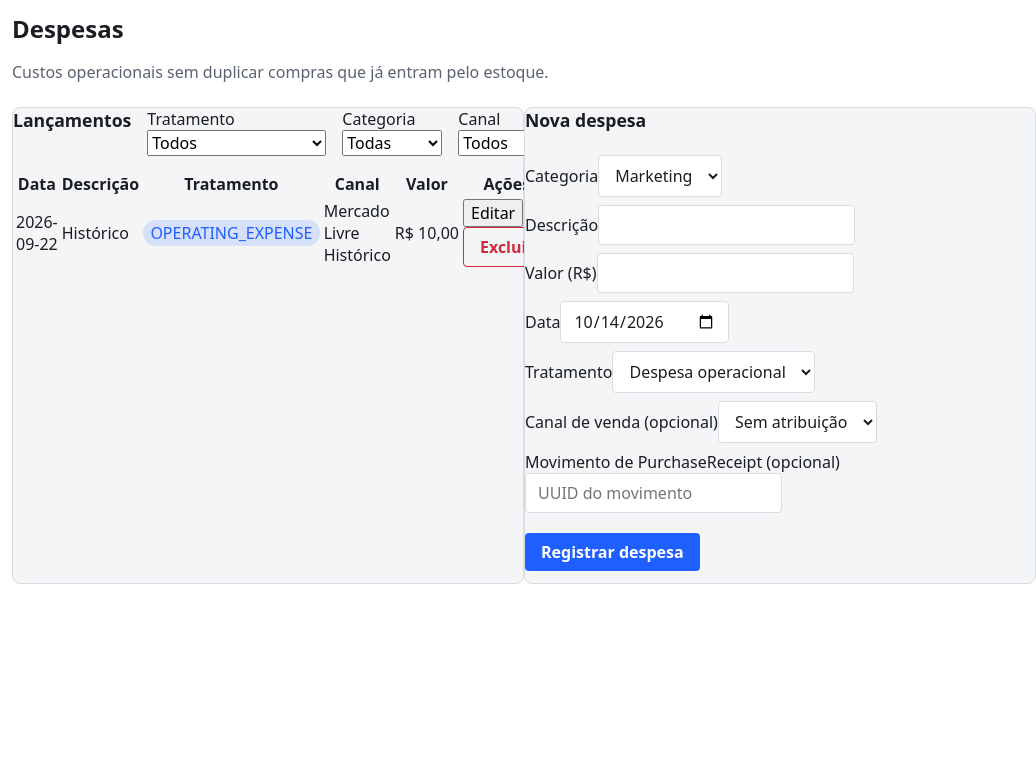
Test case: deletes an expense through the confirmation flow and refreshes the list
The width and height of the screenshot is (1036, 780).
Expected: the text "Histórico" is shown, [61,198,140,268]
Click the button "Excluir" at (507, 247), box [463,227,551,267]
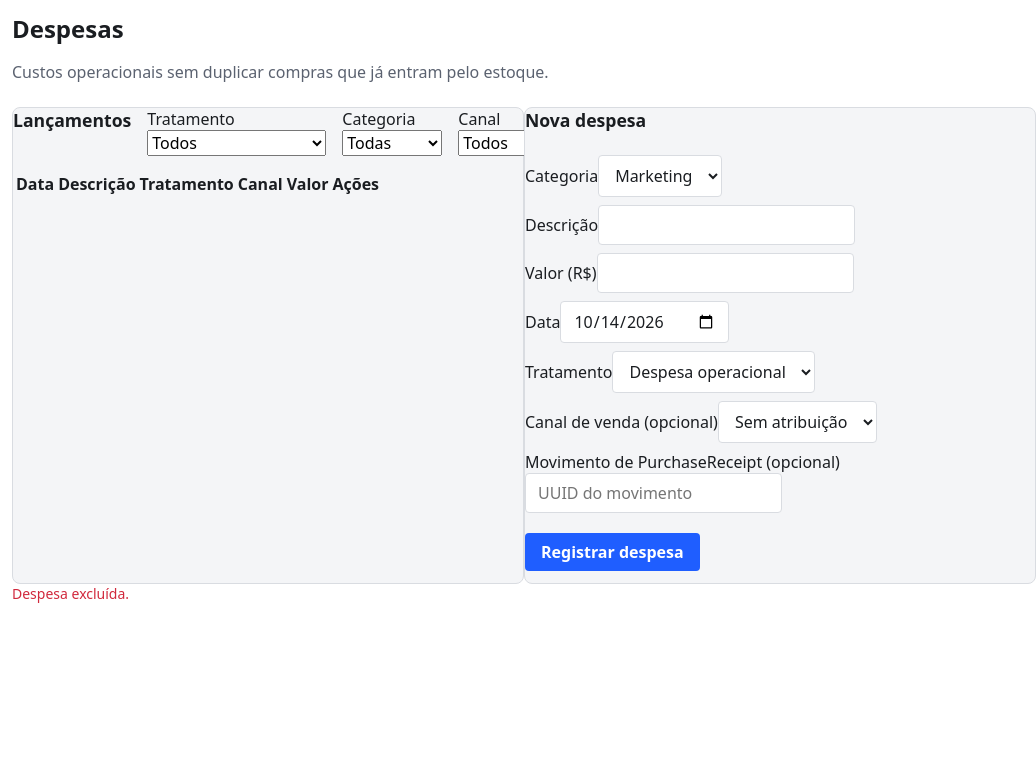
Now the message reads "Despesa excluída.", box [12,584,129,603]
Now the text "Histórico" is gone
